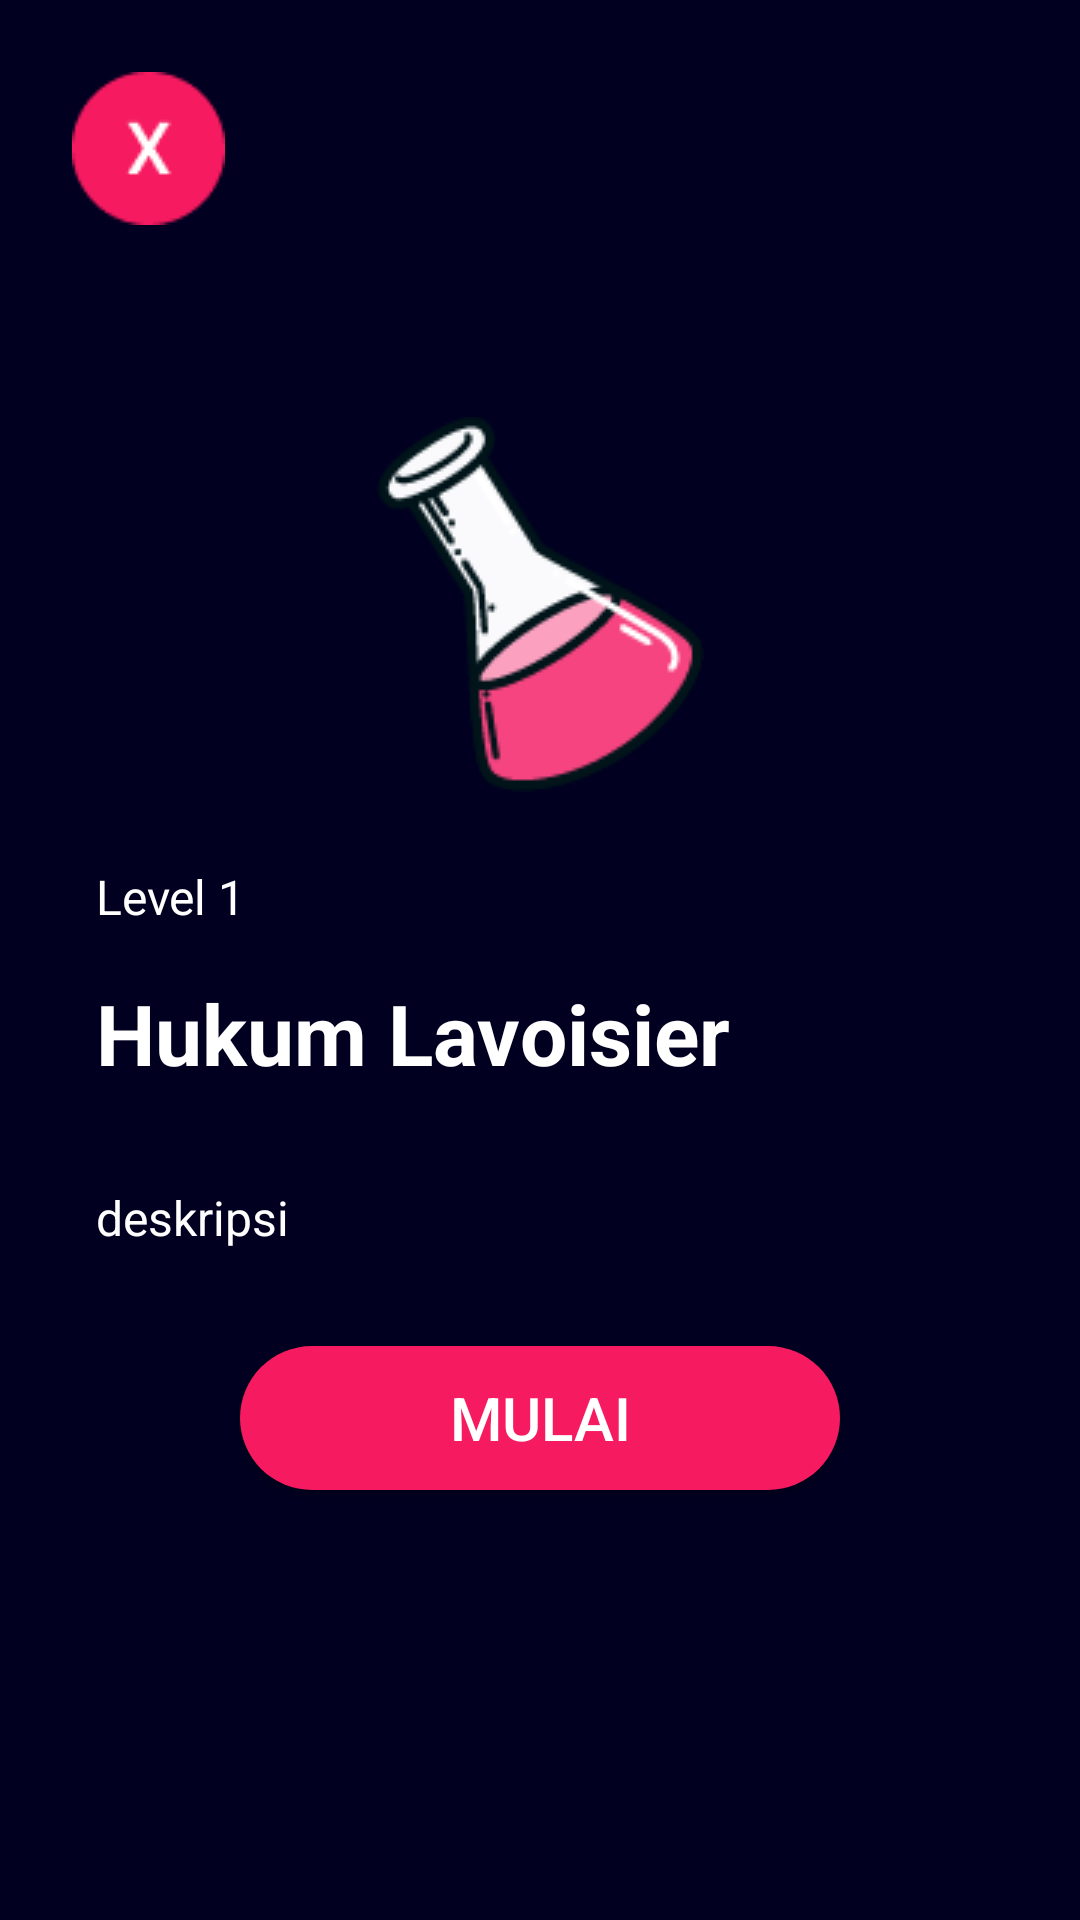

Locate icon controls on the screen. Image size 1080px x 1920px, boxes as (x1, y1, x2, y2).
botol: (385, 425, 693, 781)
